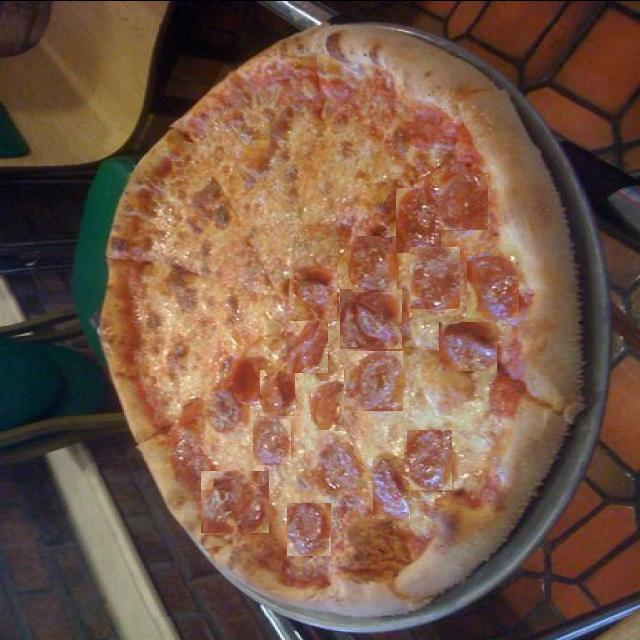pepperoni: (202, 469, 270, 532), (341, 288, 403, 348), (345, 350, 404, 410), (468, 254, 520, 316), (411, 246, 461, 308), (397, 187, 442, 252), (440, 321, 498, 370), (440, 172, 489, 229), (408, 429, 453, 489), (315, 441, 363, 496), (352, 235, 398, 291), (288, 502, 332, 555), (295, 265, 338, 319), (374, 458, 411, 518), (288, 320, 329, 372), (172, 439, 215, 488), (254, 418, 292, 464), (313, 380, 347, 429), (261, 369, 296, 415), (208, 382, 240, 432), (233, 355, 262, 402)
pizza: (97, 23, 584, 616)
